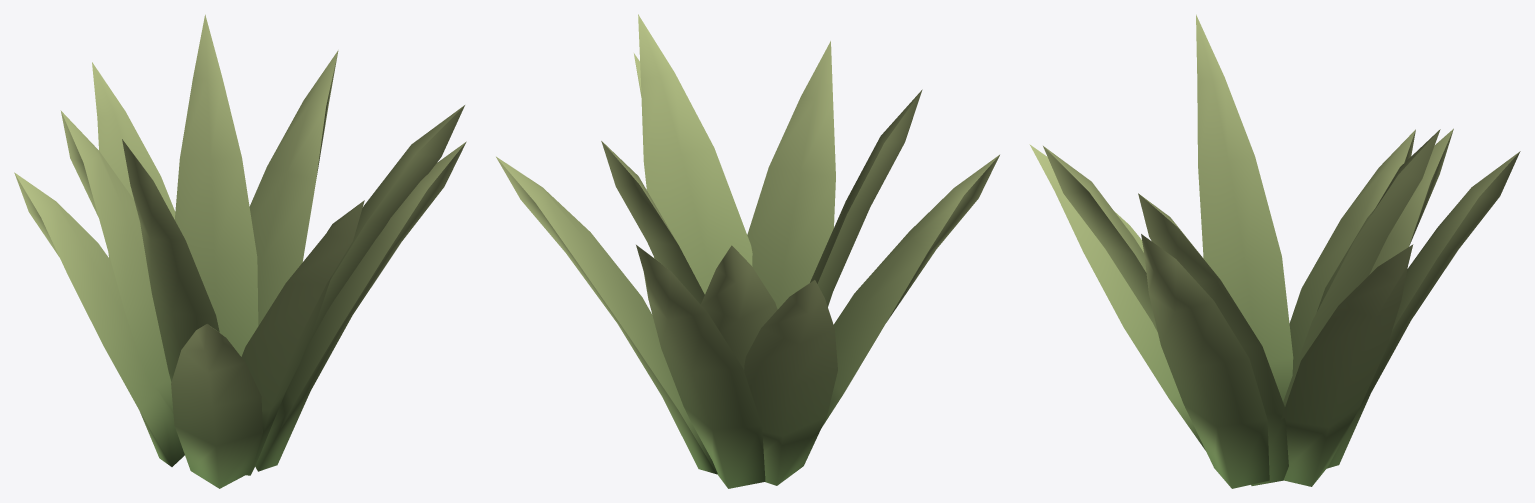
The model's file is grass_tall_c.glb.
3 renders of one model, left to right at view 1: azimuth 30°, elevation 25°; view 2: azimuth 150°, elevation 25°; view 3: azimuth 270°, elevation 25°, orthographic. The views are drawn at different scales.
Visible parts, largest first — view 1: Grass_Tall_C.001; view 2: Grass_Tall_C.001; view 3: Grass_Tall_C.001.
Part boxes in pixels (left/top/right/bottom): Grass_Tall_C.001: left=14, top=14, right=466, bottom=488; Grass_Tall_C.001: left=496, top=14, right=999, bottom=488; Grass_Tall_C.001: left=1029, top=14, right=1520, bottom=488.
Bounding box in the file's own units: 0.414 × 0.4696 × 0.5348.
